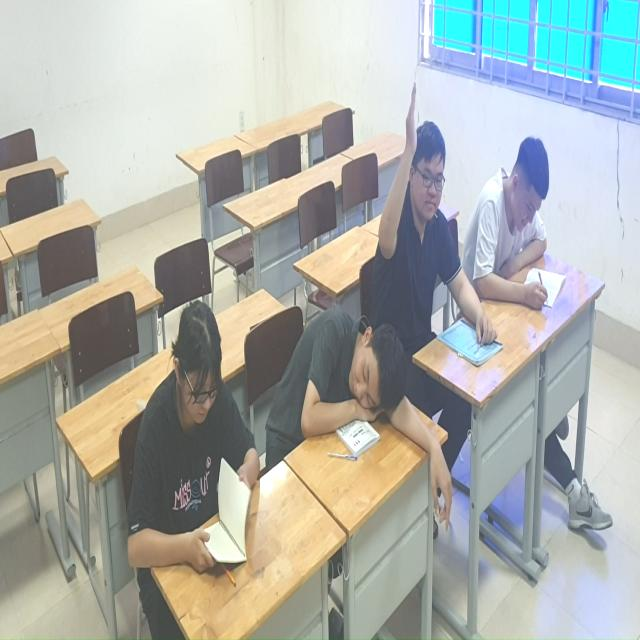raise_hand: (374, 72, 470, 320)
read: (126, 273, 263, 582), (477, 130, 572, 328)
sleep: (295, 304, 457, 532)
